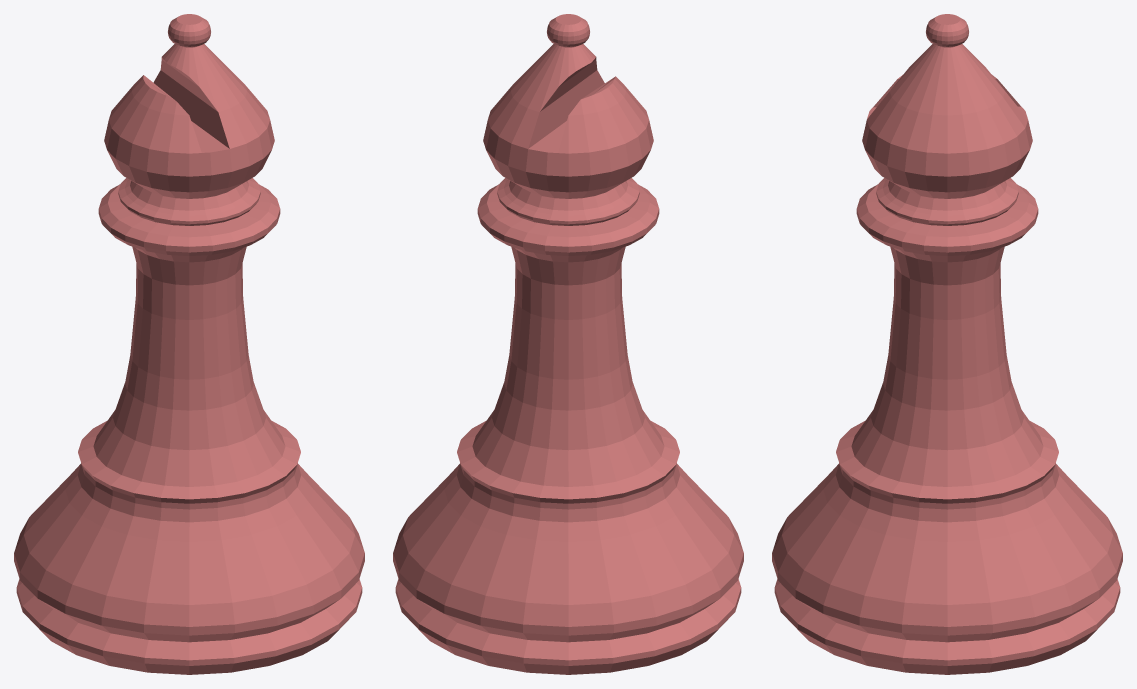
File: bishop0.obj
The picture shows the model from 3 angles, left to right: view 1: azimuth 30°, elevation 25°; view 2: azimuth 150°, elevation 25°; view 3: azimuth 270°, elevation 25°; orthographic projection.
Parts seen in each view (by area): view 1: Mesh1_Model.003, Mesh2_Model.003; view 2: Mesh1_Model.003, Mesh2_Model.003; view 3: Mesh1_Model.003, Mesh2_Model.003.
Part boxes in pixels (x1,y1,x2,y2): Mesh1_Model.003: [14, 44, 364, 674]; Mesh2_Model.003: [168, 14, 210, 47]; Mesh1_Model.003: [393, 44, 743, 674]; Mesh2_Model.003: [547, 14, 589, 47]; Mesh1_Model.003: [772, 44, 1122, 674]; Mesh2_Model.003: [926, 14, 968, 47].
Bounding box in the file's own units: 0.7815 × 1.45 × 0.7815.
